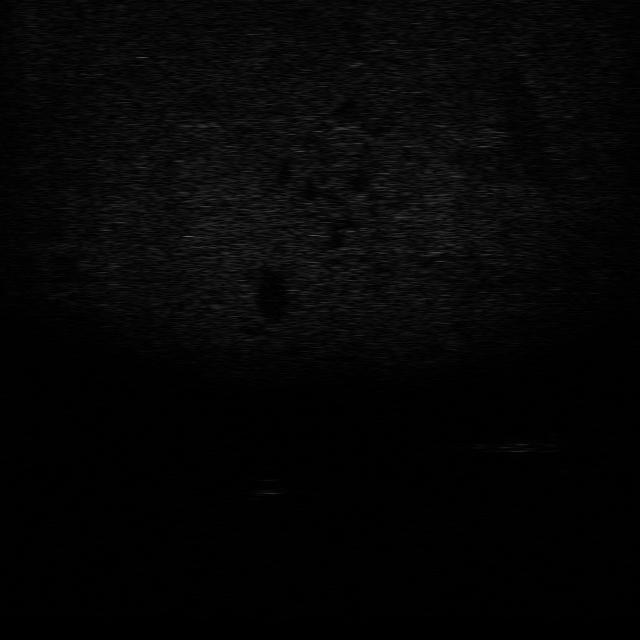ball: (250, 475, 290, 498)
human body: (467, 430, 562, 456)
